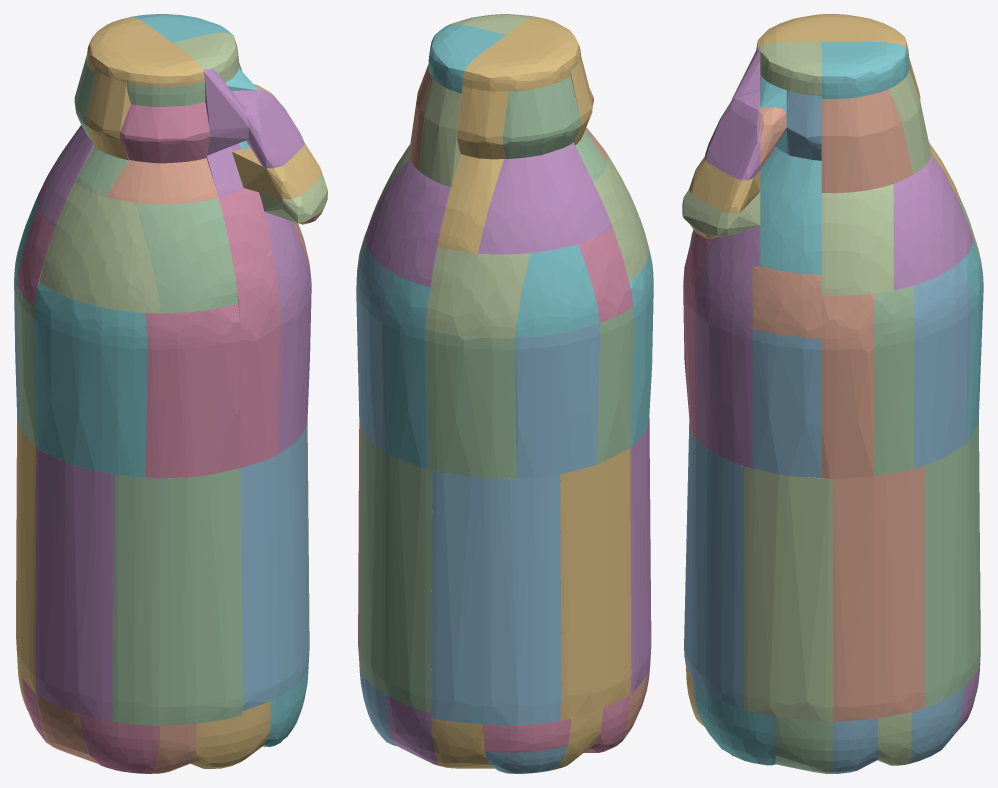
The model's file is ware_collision.glb.
3 views of the same model, side by side, from view 1: azimuth 30°, elevation 25°; view 2: azimuth 150°, elevation 25°; view 3: azimuth 270°, elevation 25° (orthographic).
Parts seen in each view (by area): view 1: world; view 2: world; view 3: world.
Boxes of the visible parts, x1=… form: world: x1=14, y1=14, x2=327, y2=773; world: x1=356, y1=14, x2=653, y2=773; world: x1=682, y1=14, x2=983, y2=773.
Bounding box in the file's own units: 0.1094 × 0.2764 × 0.1103.
